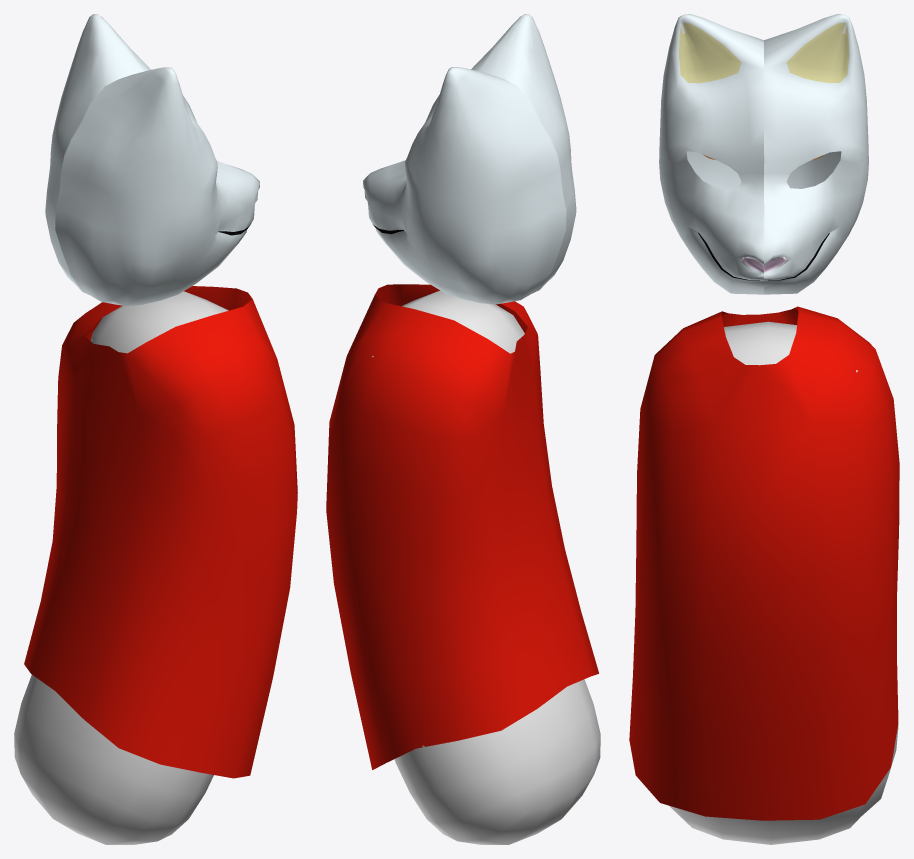
Rendered from NPC 3.fbx.
3 renders of one model, left to right at view 1: azimuth 30°, elevation 25°; view 2: azimuth 150°, elevation 25°; view 3: azimuth 270°, elevation 25°, orthographic. The views are drawn at different scales.
Parts seen in each view (by area): view 1: T-shirt.004, Mask.002, body.004; view 2: T-shirt.004, Mask.002, body.004; view 3: T-shirt.004, Mask.002, body.004.
Part boxes in pixels (x1,y1,x2,y2): T-shirt.004: (24, 286, 297, 778); Mask.002: (45, 14, 259, 305); body.004: (14, 291, 228, 844); T-shirt.004: (326, 284, 598, 769); Mask.002: (363, 14, 576, 304); body.004: (372, 290, 600, 844); T-shirt.004: (629, 306, 899, 820); Mask.002: (659, 14, 868, 294); body.004: (669, 321, 898, 844).
Size of the model in its own units: 2.26 by 7.21 by 2.12.
